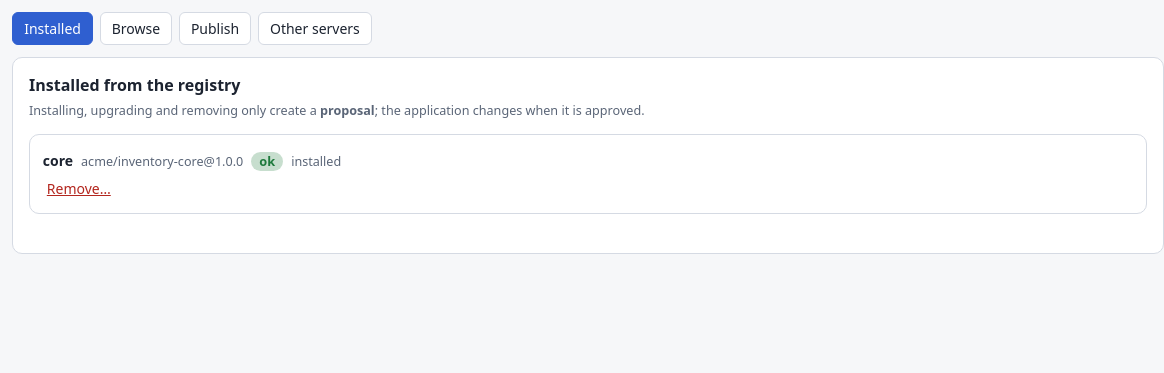
it: Registry: installed modules › removal needs a second click, and a changed module needs an explicit "continue anyway"
Click the button "Remove…". click: click(79, 189)
box: 43,179 -> 115,199
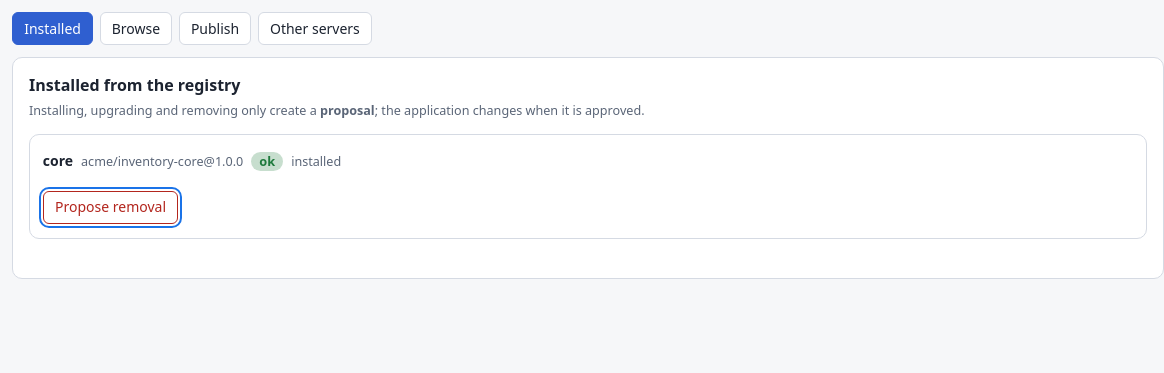
Click the button "Propose removal". click: click(110, 208)
box: 43,191 -> 178,224
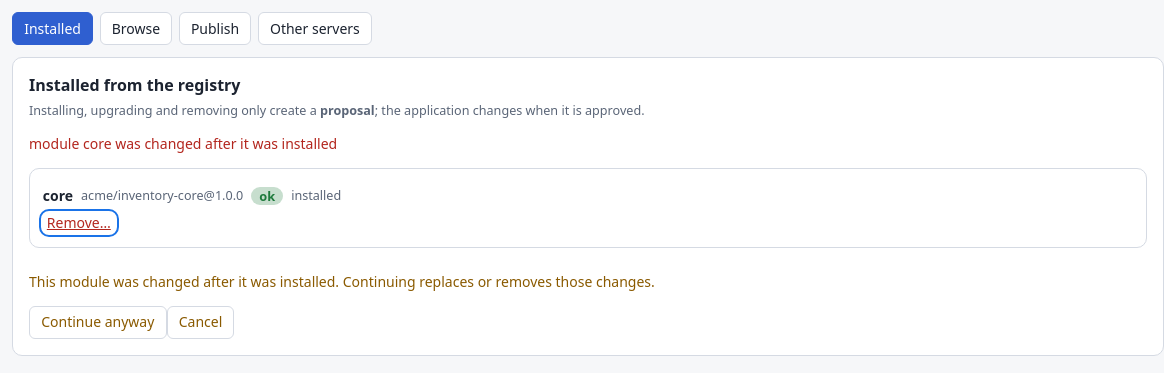
Now the button "Continue anyway" is shown
Click the button "Continue anyway". click: click(98, 323)
box: 29,306 -> 166,339
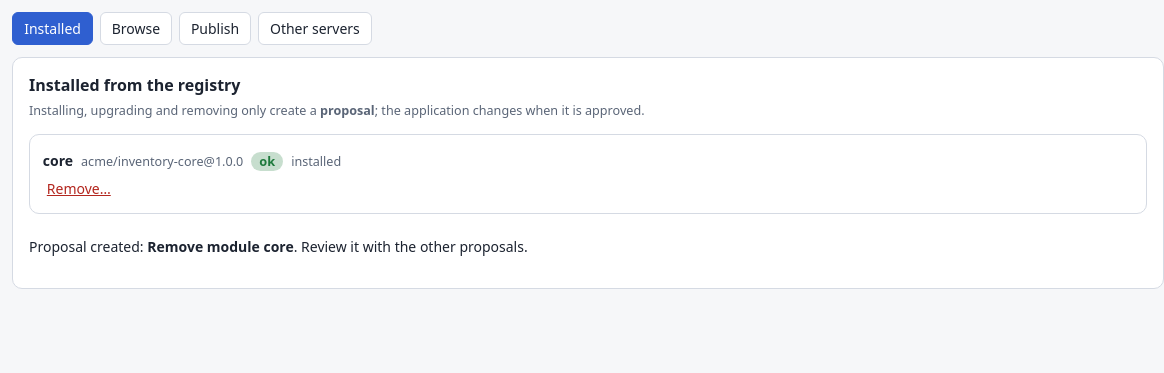
Now the text "Remove module core" is shown, box 147,237 -> 294,256
